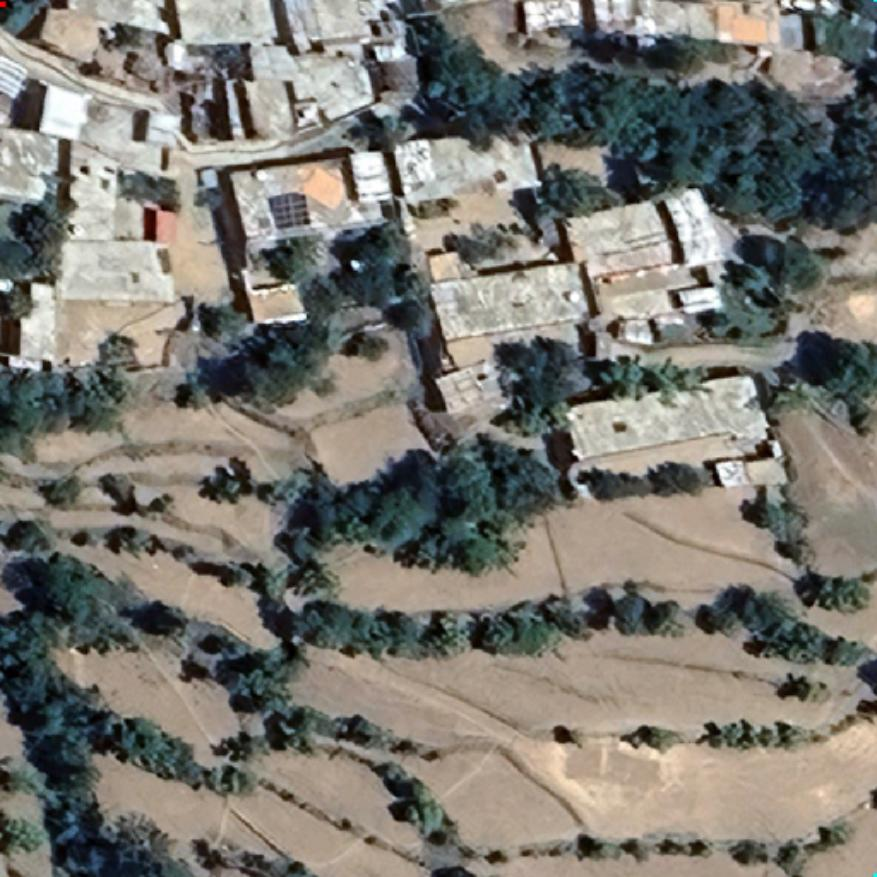Solarpanel: (269, 190, 310, 230)
